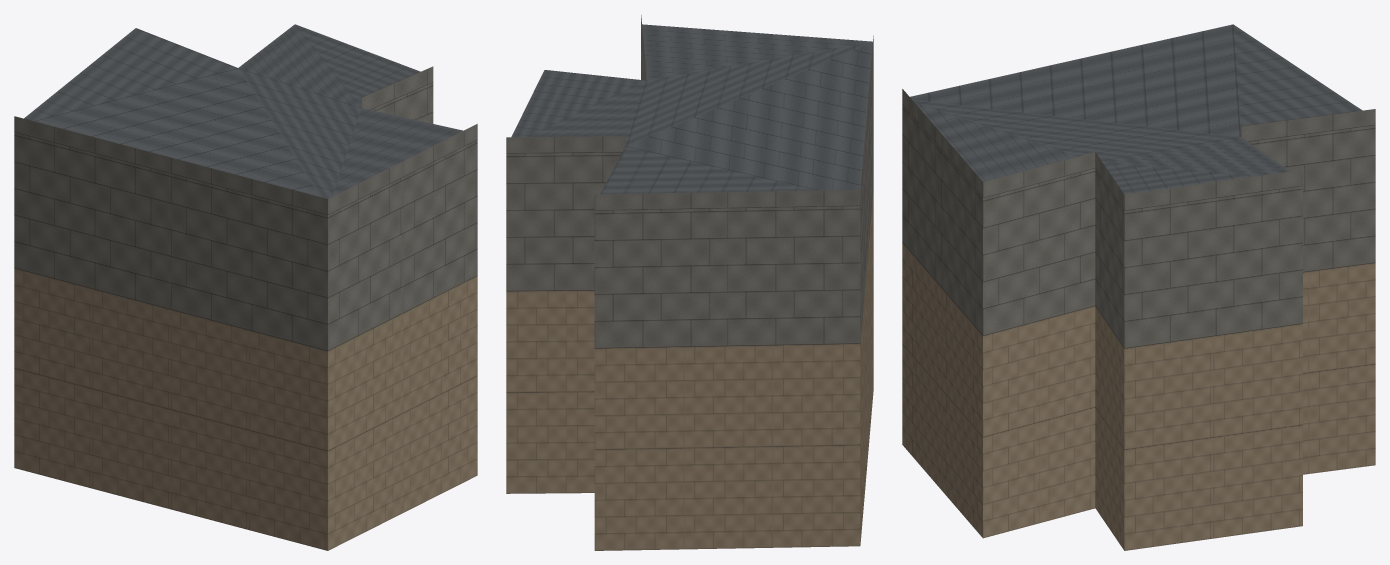
The model's file is bld_c-34_-13_638.gltf.
3 renders of one model, left to right at view 1: azimuth 30°, elevation 25°; view 2: azimuth 150°, elevation 25°; view 3: azimuth 270°, elevation 25°, orthographic.
Parts seen in each view (by area): view 1: bld_c-34_-13_638; view 2: bld_c-34_-13_638; view 3: bld_c-34_-13_638.
Boxes of the visible parts, left/top/right/bottom form: bld_c-34_-13_638: left=14, top=24, right=477, bottom=550; bld_c-34_-13_638: left=506, top=15, right=873, bottom=550; bld_c-34_-13_638: left=902, top=24, right=1375, bottom=550.
Size of the model in its own units: 9 by 8.28 by 9.97.
Materials: 4 (4 with a texture image).
